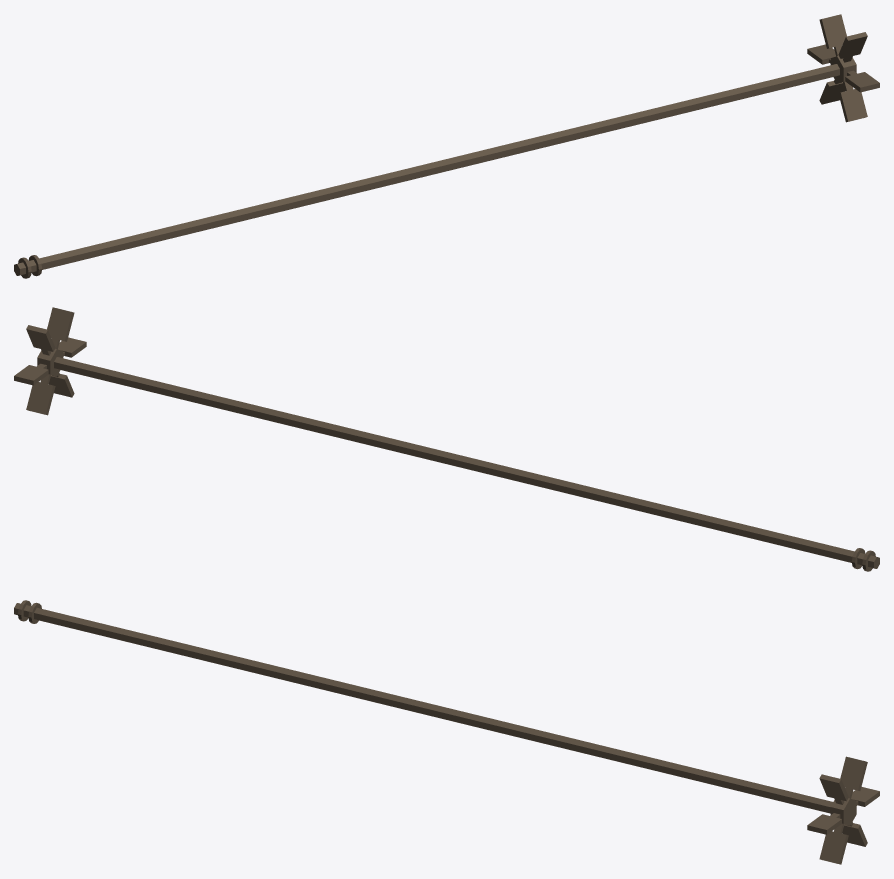
3 views of the same model, one above another, from view 1: azimuth 30°, elevation 25°; view 2: azimuth 150°, elevation 25°; view 3: azimuth 330°, elevation 25° (orthographic).
Parts seen in each view (by area): view 1: 吊桥d4, 吊桥d3_2, 吊桥d3_3, 吊桥d3_1; view 2: 吊桥d4, 吊桥d3_3, 吊桥d3_2, 吊桥d3_1; view 3: 吊桥d4, 吊桥d3_2, 吊桥d3_3, 吊桥d3_1.
Part boxes in pixels (bbox=[...]): 吊桥d4: bbox=[14, 64, 839, 275]; 吊桥d3_2: bbox=[819, 14, 867, 122]; 吊桥d3_3: bbox=[819, 32, 867, 104]; 吊桥d3_1: bbox=[807, 44, 879, 92]; 吊桥d4: bbox=[54, 357, 879, 568]; 吊桥d3_3: bbox=[26, 307, 74, 415]; 吊桥d3_2: bbox=[26, 325, 74, 397]; 吊桥d3_1: bbox=[14, 337, 86, 385]; 吊桥d4: bbox=[14, 603, 832, 813]; 吊桥d3_2: bbox=[819, 756, 867, 864]; 吊桥d3_3: bbox=[819, 774, 867, 846]; 吊桥d3_1: bbox=[807, 786, 879, 834].
Bounding box in the file's own units: 1278 × 125 × 140.
